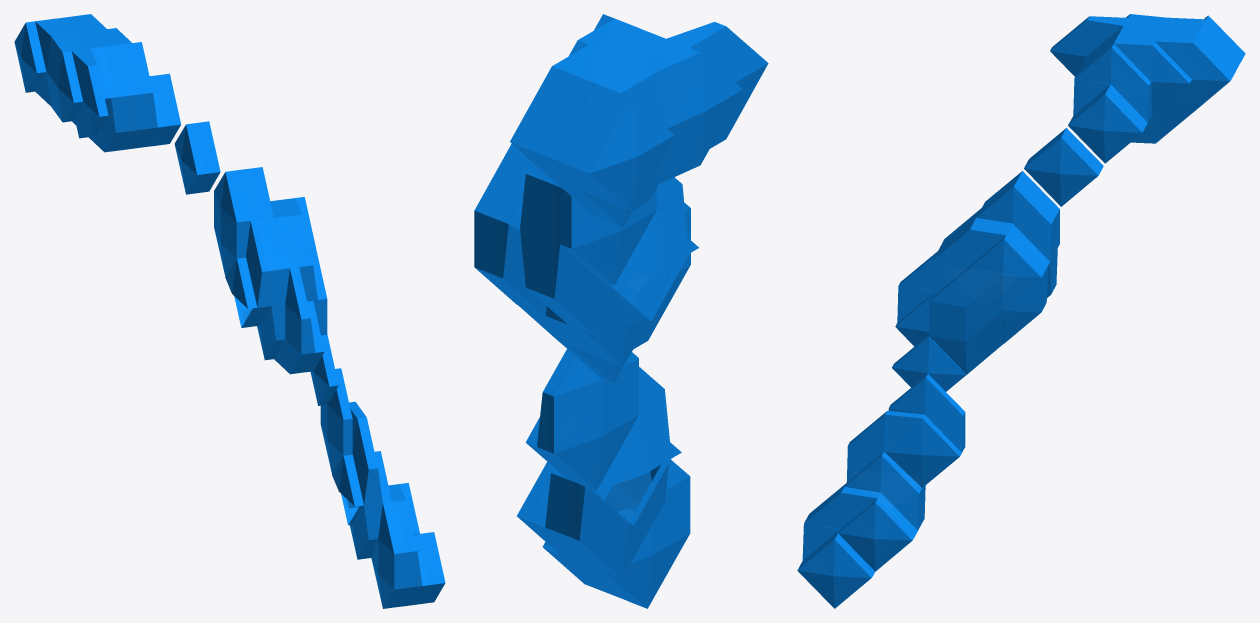
The model's file is SVV_Fragment2.gltf.
3 renders of one model, left to right at view 1: azimuth 30°, elevation 25°; view 2: azimuth 150°, elevation 25°; view 3: azimuth 270°, elevation 25°, orthographic. The views are drawn at different scales.
Parts seen in each view (by area): view 1: Fragment2; view 2: Fragment2; view 3: Fragment2.
Boxes of the visible parts, <box> form: Fragment2: <box>14,14,445,608</box>; Fragment2: <box>474,14,768,608</box>; Fragment2: <box>797,14,1245,608</box>.
Size of the model in its own units: 4625 by 9227 by 7681.
